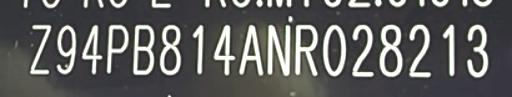letter: (462, 21, 490, 78), (210, 22, 238, 79), (320, 22, 348, 79), (378, 23, 406, 78), (292, 22, 318, 81), (265, 22, 293, 75), (351, 20, 377, 77), (406, 22, 432, 79), (238, 22, 264, 77), (158, 24, 184, 77), (131, 23, 155, 78), (28, 22, 52, 75), (80, 22, 104, 75), (106, 23, 130, 76), (438, 22, 460, 79), (55, 23, 77, 76), (189, 24, 205, 77)
